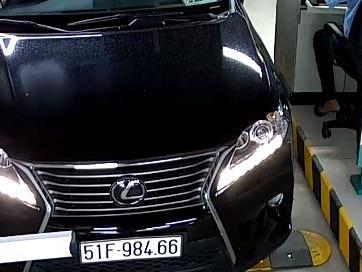number: (81, 239, 182, 261)
